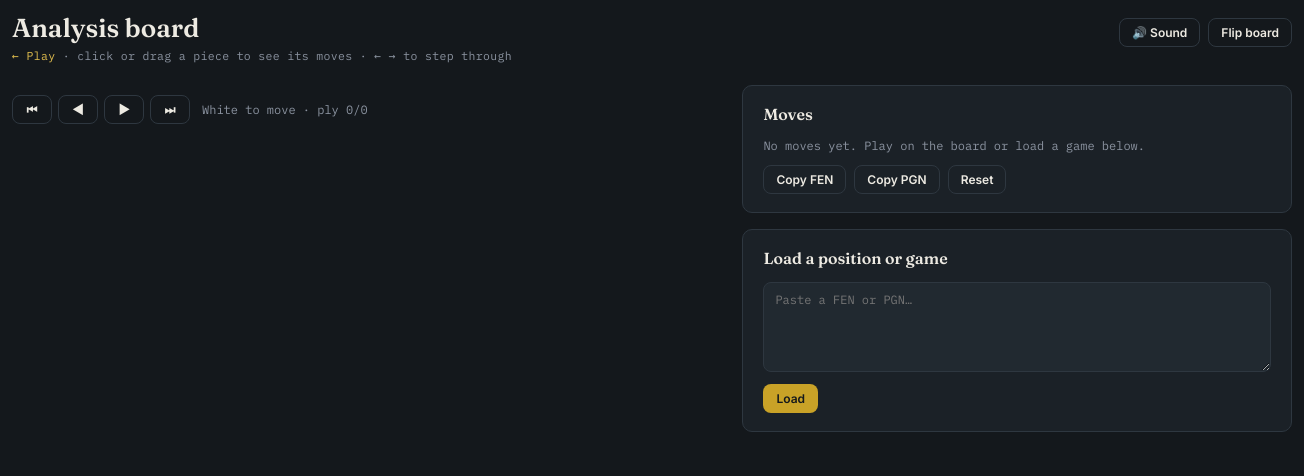
Test case: AnalysisBoard › flags checkmate at the end of a loaded game
This screenshot has width=1304, height=476.
Type "1. f3 e5 2. g4 Qh4#" into the text box with placeholder "Paste a FEN or PGN…" at (1017, 327), box 763,282 -> 1271,372
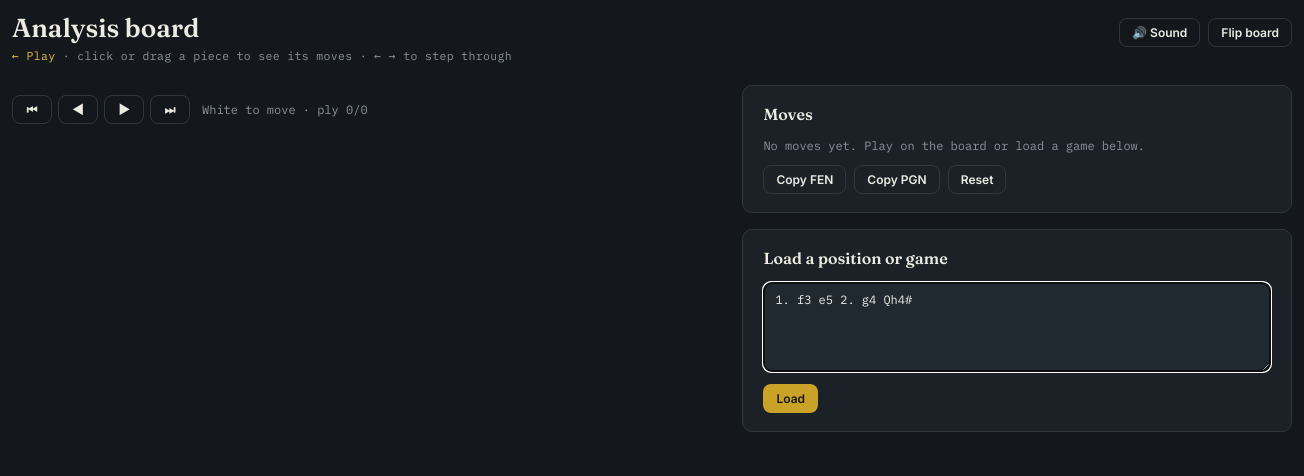
Click the button "Load" at (791, 398), box 763,384 -> 818,413
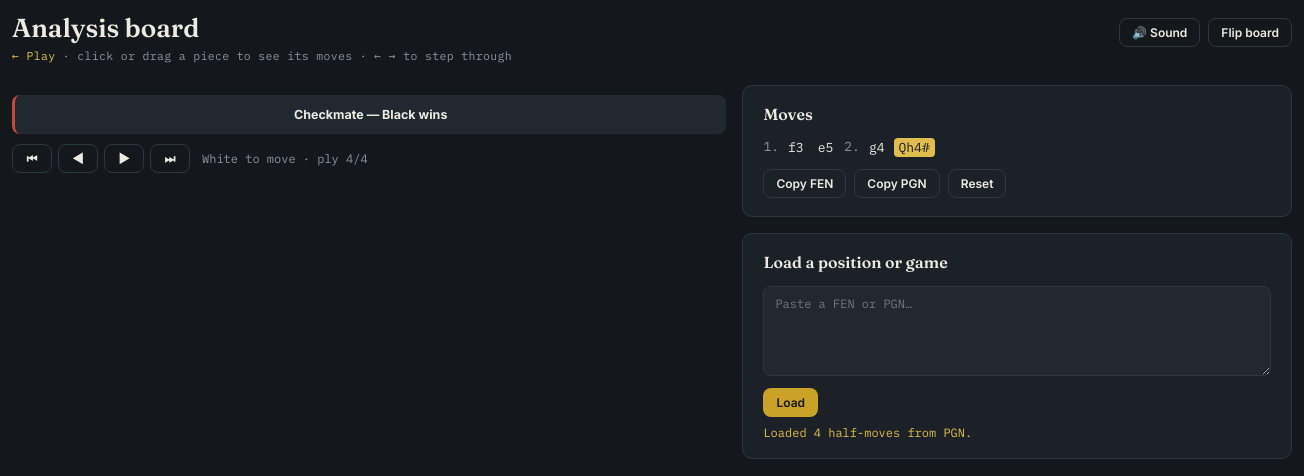
Result: the text "Checkmate — Black wins" is shown at 12,95 -> 726,134
